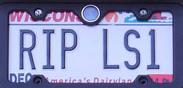1: (145, 27, 165, 71)
I: (40, 27, 57, 71)
L: (96, 27, 121, 71)
P: (59, 28, 79, 71)
R: (15, 28, 37, 71)
S: (123, 27, 142, 69)
